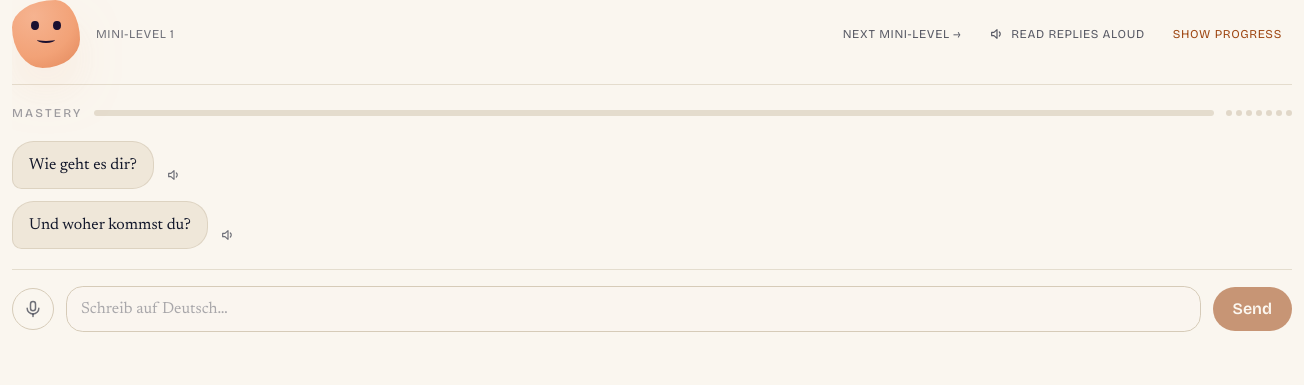
Test case: a plan without the AI voice › says why once, quietly, with where the plans are
The width and height of the screenshot is (1304, 385).
Click the button named "read this reply aloud" next to "Wie geht es dir?".
click(174, 175)  # box [160,161,188,189]
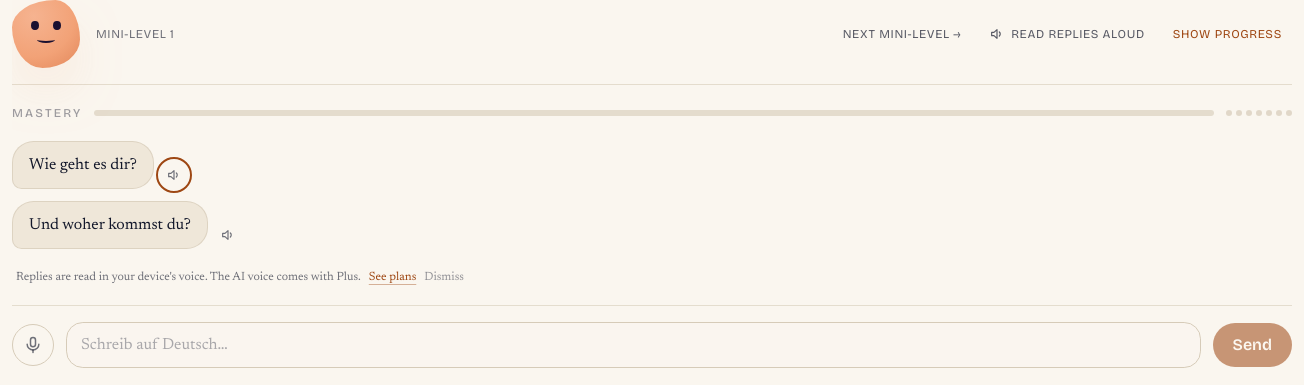
Expected: the text "comes with Plus" is shown, [16,271,361,283]
